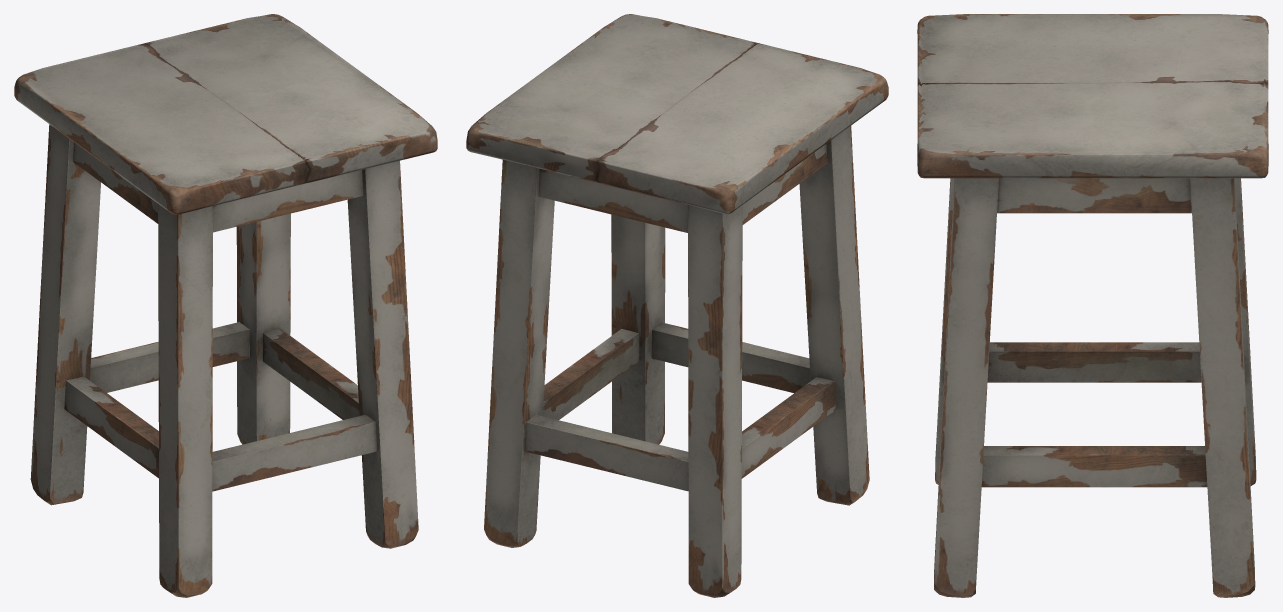
Rendered from painted_wooden_stool.glb.
3 renders of one model, left to right at view 1: azimuth 30°, elevation 25°; view 2: azimuth 150°, elevation 25°; view 3: azimuth 270°, elevation 25°, orthographic. The views are drawn at different scales.
Parts seen in each view (by area): view 1: painted_wooden_stool; view 2: painted_wooden_stool; view 3: painted_wooden_stool.
Boxes of the visible parts, box(x1,y1,x2,y2) form: painted_wooden_stool: box(14, 14, 437, 597); painted_wooden_stool: box(466, 14, 888, 597); painted_wooden_stool: box(917, 14, 1268, 597).
Size of the model in its own units: 0.3848 by 0.5789 by 0.406.
Materials: 1 (1 with a texture image).
